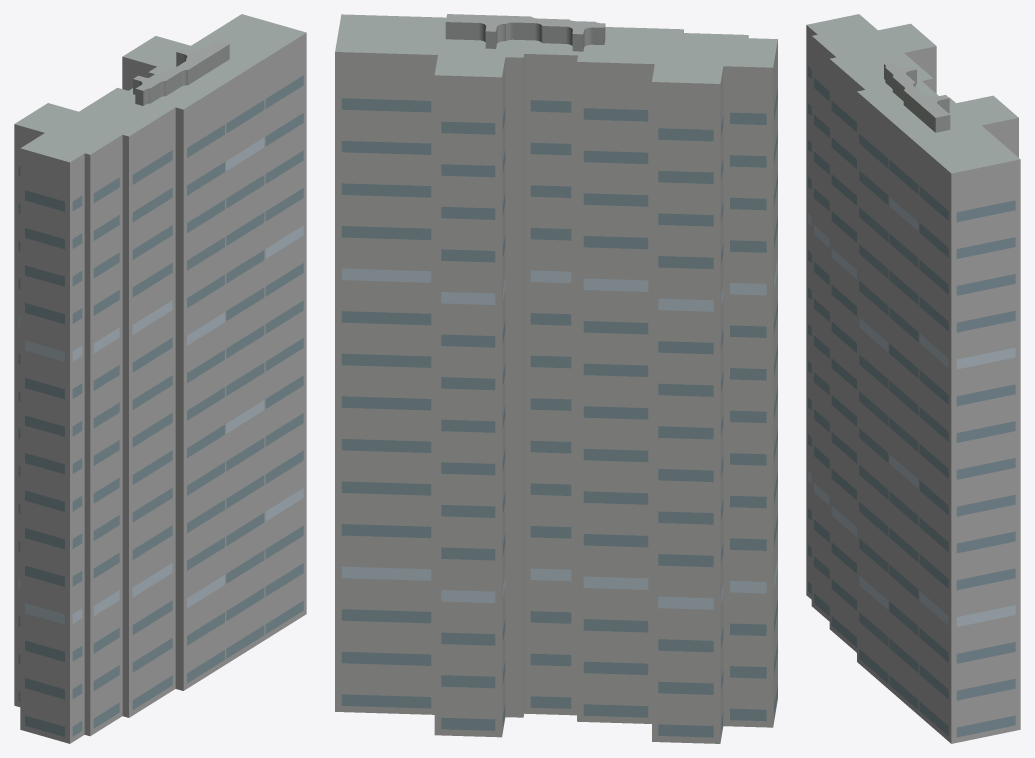
Rendered from fallback-raemian-la-classy-106.glb.
The picture shows the model from 3 angles, left to right: view 1: azimuth 30°, elevation 25°; view 2: azimuth 150°, elevation 25°; view 3: azimuth 270°, elevation 25°; orthographic projection. The views are drawn at different scales.
Parts seen in each view (by area): view 1: fallback-raemian-la-classy-106; view 2: fallback-raemian-la-classy-106; view 3: fallback-raemian-la-classy-106.
Boxes of the visible parts, x1,y1,x2,y2 form: fallback-raemian-la-classy-106: (14, 14, 306, 743); fallback-raemian-la-classy-106: (335, 14, 777, 743); fallback-raemian-la-classy-106: (806, 14, 1020, 743).
Size of the model in its own units: 54.96 by 94 by 31.17.
